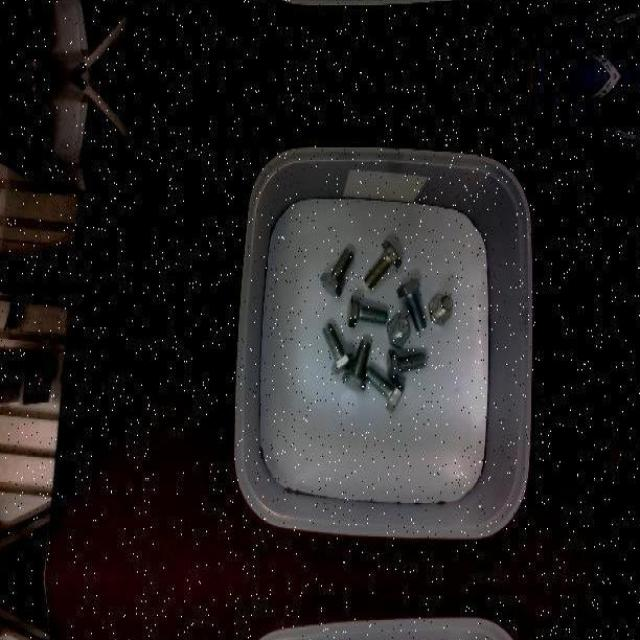screw: (365, 366, 405, 412), (364, 240, 401, 287), (321, 322, 352, 374), (396, 277, 426, 330), (319, 247, 352, 295), (342, 340, 370, 390), (385, 349, 427, 381), (346, 295, 386, 326), (387, 314, 411, 347), (429, 292, 453, 324)
